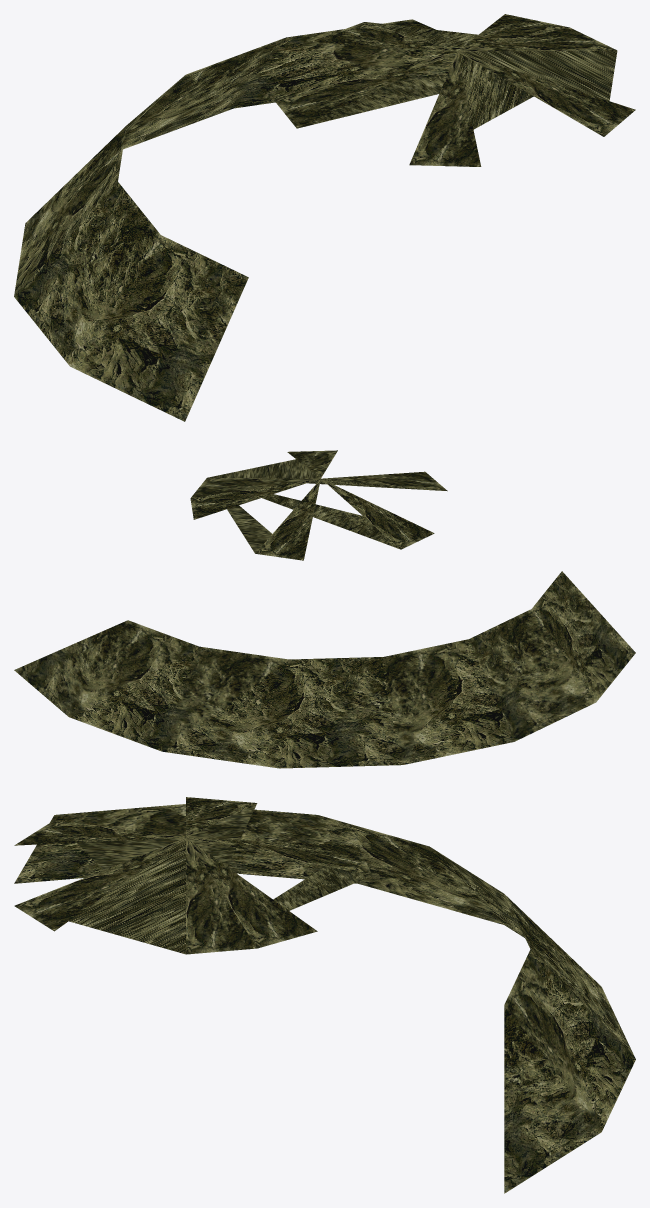
The model's file is sky-vr-temple.obj.
3 views of the same model, one above another, from view 1: azimuth 30°, elevation 25°; view 2: azimuth 150°, elevation 25°; view 3: azimuth 270°, elevation 25° (orthographic). The views are drawn at different scales.
Visible parts, largest first — view 1: mesh_sky_0; view 2: mesh_sky_0; view 3: mesh_sky_0.
Boxes of the visible parts, x1,y1,x2,y2 form: mesh_sky_0: (14, 14, 635, 421); mesh_sky_0: (14, 450, 635, 768); mesh_sky_0: (14, 797, 635, 1193).
Size of the model in its own units: 8201 by 2615 by 6643.
Materials: 1 (1 with a texture image).
